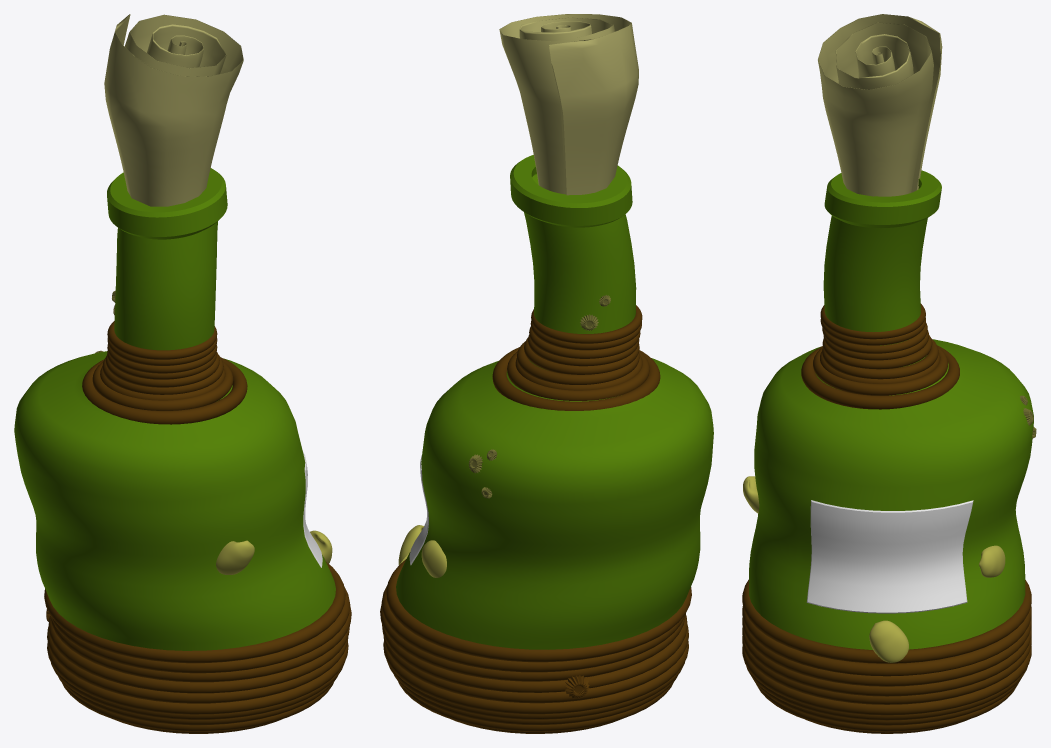
The model's file is Bottle_fbx.fbx.
3 views of the same model, side by side, from view 1: azimuth 30°, elevation 25°; view 2: azimuth 150°, elevation 25°; view 3: azimuth 270°, elevation 25° (orthographic). The views are drawn at different scales.
Visible parts, largest first — view 1: polySurface3, nurbsToPoly1, polySurface25, polySurface2, polySurface1, polySurface26, polySurface47, polySurface8, polySurface27, polySurface9, polySurface46, polySurface44 (+9 smaller); view 2: polySurface3, nurbsToPoly1, polySurface25, polySurface1, polySurface2, polySurface26, polySurface47, polySurface27, polySurface8, polySurface9, polySurface46, polySurface44 (+9 smaller); view 3: polySurface3, nurbsToPoly1, polySurface25, polySurface26, polySurface1, polySurface27, polySurface2, polySurface8, polySurface47, polySurface9, polySurface46, polySurface44 (+10 smaller).
Part boxes in pixels (x1,y1,x2,y2): polySurface3: [14, 168, 335, 650]; nurbsToPoly1: [104, 14, 243, 206]; polySurface25: [44, 562, 345, 663]; polySurface2: [48, 616, 349, 693]; polySurface1: [47, 642, 348, 714]; polySurface26: [50, 587, 350, 673]; polySurface47: [47, 627, 348, 703]; polySurface8: [82, 357, 247, 424]; polySurface27: [50, 605, 351, 682]; polySurface9: [92, 361, 233, 410]; polySurface46: [62, 682, 333, 731]; polySurface44: [51, 663, 344, 719]; polySurface3: [396, 155, 713, 649]; nurbsToPoly1: [499, 14, 638, 195]; polySurface25: [386, 559, 691, 662]; polySurface1: [383, 641, 688, 714]; polySurface2: [382, 615, 687, 692]; polySurface26: [381, 585, 685, 672]; polySurface47: [383, 626, 688, 703]; polySurface27: [380, 604, 685, 681]; polySurface8: [492, 347, 660, 410]; polySurface9: [507, 351, 649, 400]; polySurface46: [398, 682, 673, 731]; polySurface44: [388, 662, 684, 719]; polySurface3: [749, 170, 1033, 649]; nurbsToPoly1: [818, 14, 942, 196]; polySurface25: [742, 579, 1031, 663]; polySurface26: [742, 605, 1031, 676]; polySurface1: [742, 645, 1031, 715]; polySurface27: [742, 617, 1031, 686]; polySurface2: [742, 627, 1031, 696]; polySurface8: [801, 345, 959, 409]; polySurface47: [742, 636, 1031, 704]; polySurface9: [813, 347, 947, 395]; polySurface46: [756, 685, 1017, 731]; polySurface44: [746, 666, 1027, 720].
Size of the model in its own units: 9.88 by 21.57 by 8.92.
